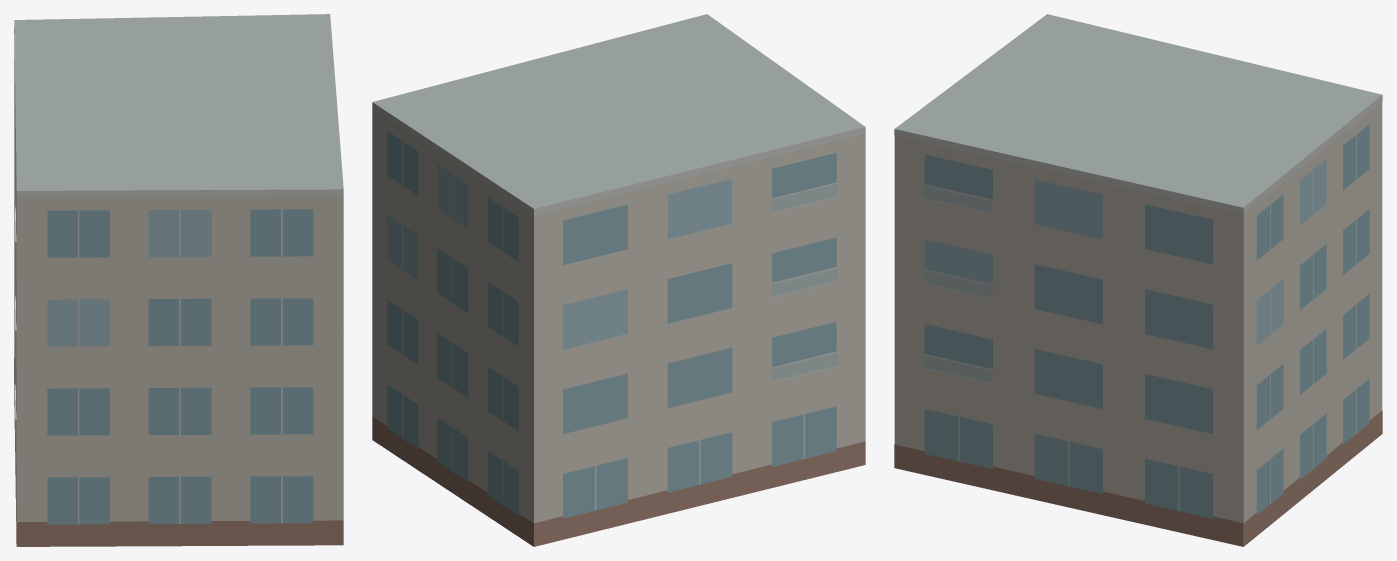
The model's file is survey-upis-32689232.glb.
3 views of the same model, side by side, from view 1: azimuth 30°, elevation 25°; view 2: azimuth 150°, elevation 25°; view 3: azimuth 270°, elevation 25° (orthographic). The views are drawn at different scales.
Parts seen in each view (by area): view 1: survey-upis-32689232.tmp; view 2: survey-upis-32689232.tmp; view 3: survey-upis-32689232.tmp.
Part boxes in pixels (x1,y1,x2,y2): survey-upis-32689232.tmp: (14, 14, 343, 546); survey-upis-32689232.tmp: (372, 14, 865, 546); survey-upis-32689232.tmp: (894, 14, 1382, 546).
Size of the model in its own units: 15.08 by 12.3 by 16.05.
